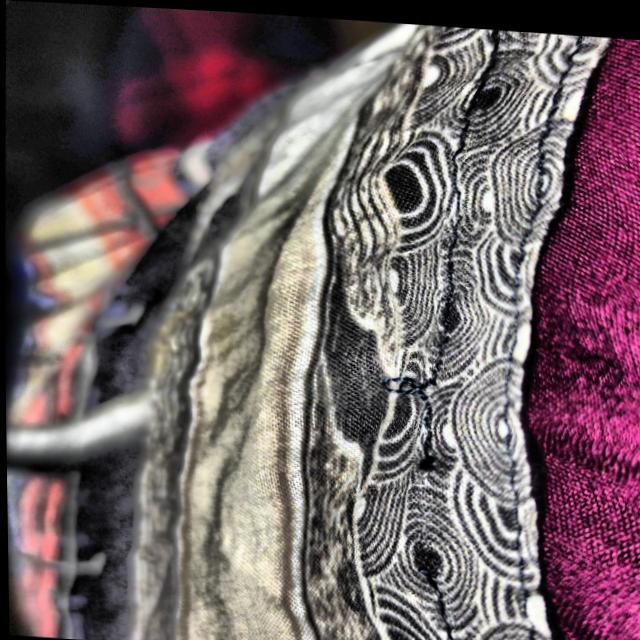Stitch: (379, 433, 480, 601), (359, 348, 455, 412)
